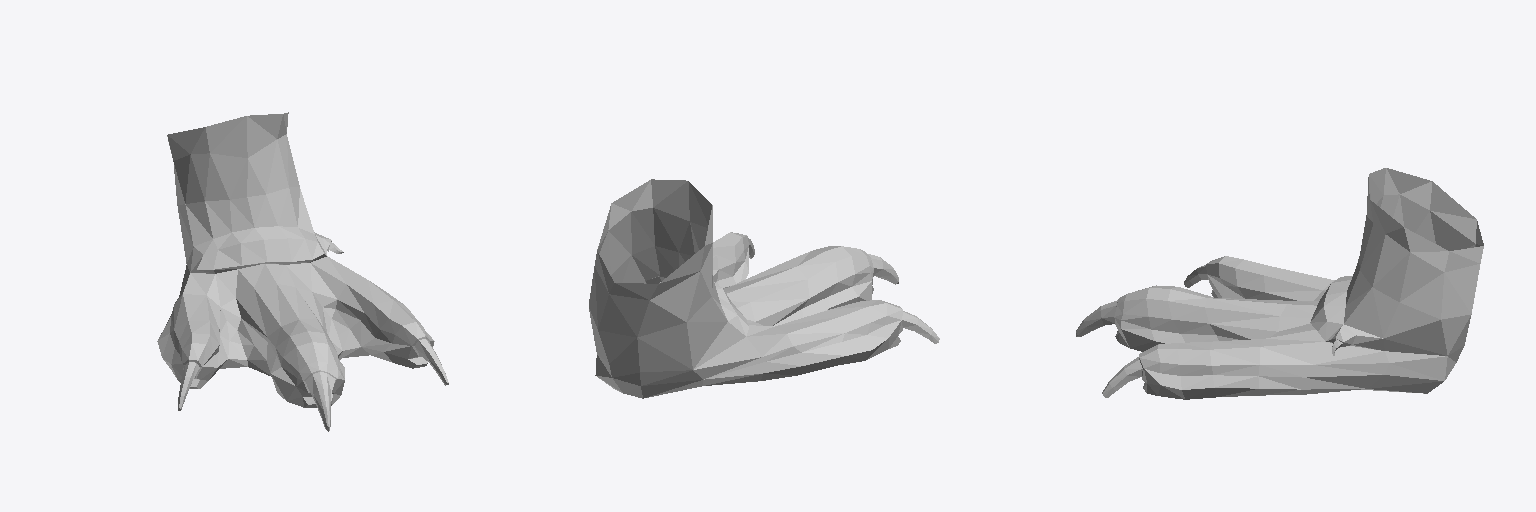
Rendered from fB_rightleg.obj.
The picture shows the model from 3 angles: view 1: azimuth 30°, elevation 25°; view 2: azimuth 150°, elevation 25°; view 3: azimuth 270°, elevation 25°; orthographic projection.
Visible parts, largest first — view 1: Animal.001; view 2: Animal.001; view 3: Animal.001.
Part boxes in pixels (x1,y1,x2,y2): Animal.001: (157, 112, 448, 431); Animal.001: (589, 179, 939, 398); Animal.001: (1076, 168, 1483, 399).
Size of the model in its own units: 1.13 by 0.8616 by 1.61.